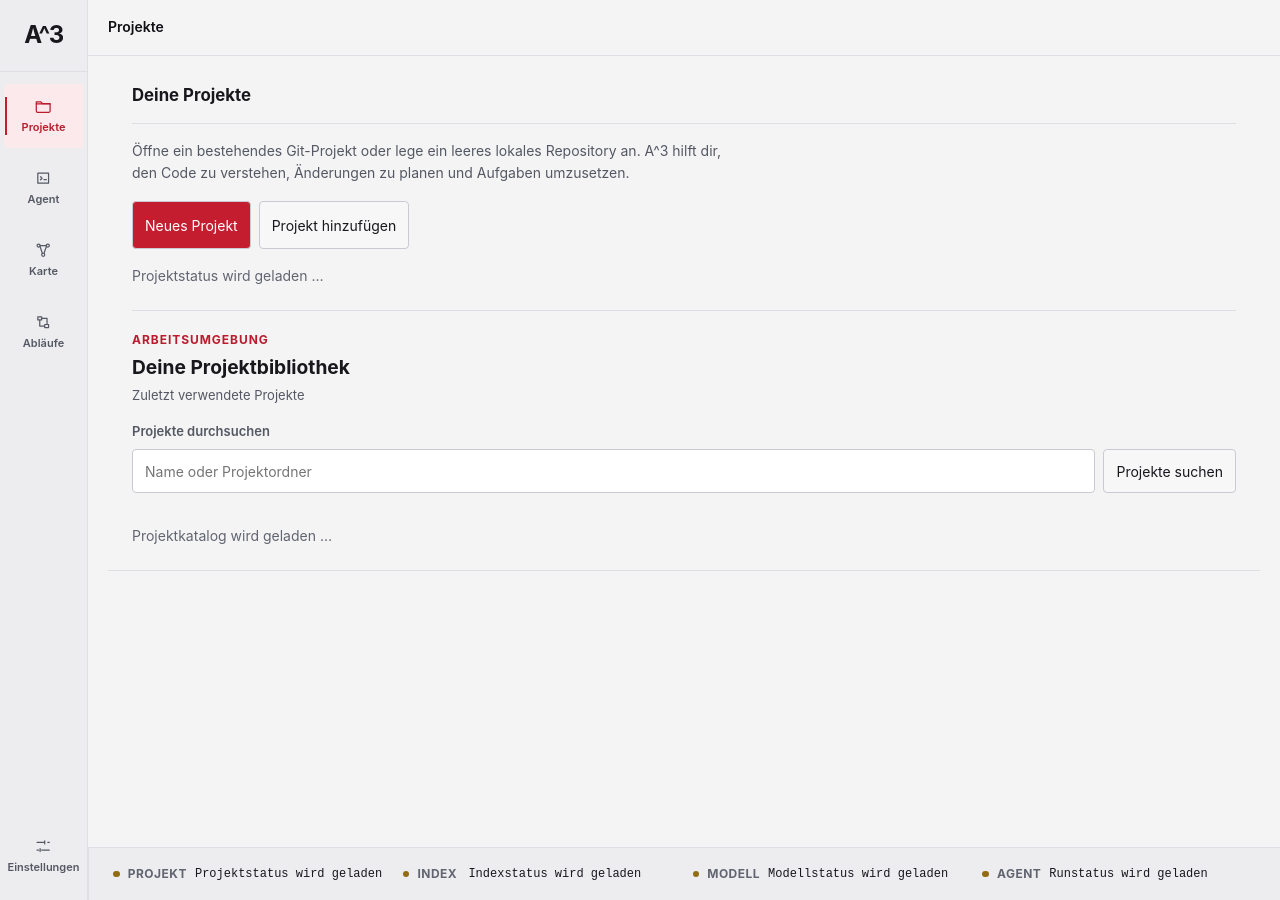
Test case: A^3 desktop shell › shows the exact product identity and keeps technical app information in Settings
The image size is (1280, 900).
expect the heading "A^3" is shown: met, box [24,21,63,50]
Click the link "Einstellungen".
click(43, 855)  # box [8,836,79,874]
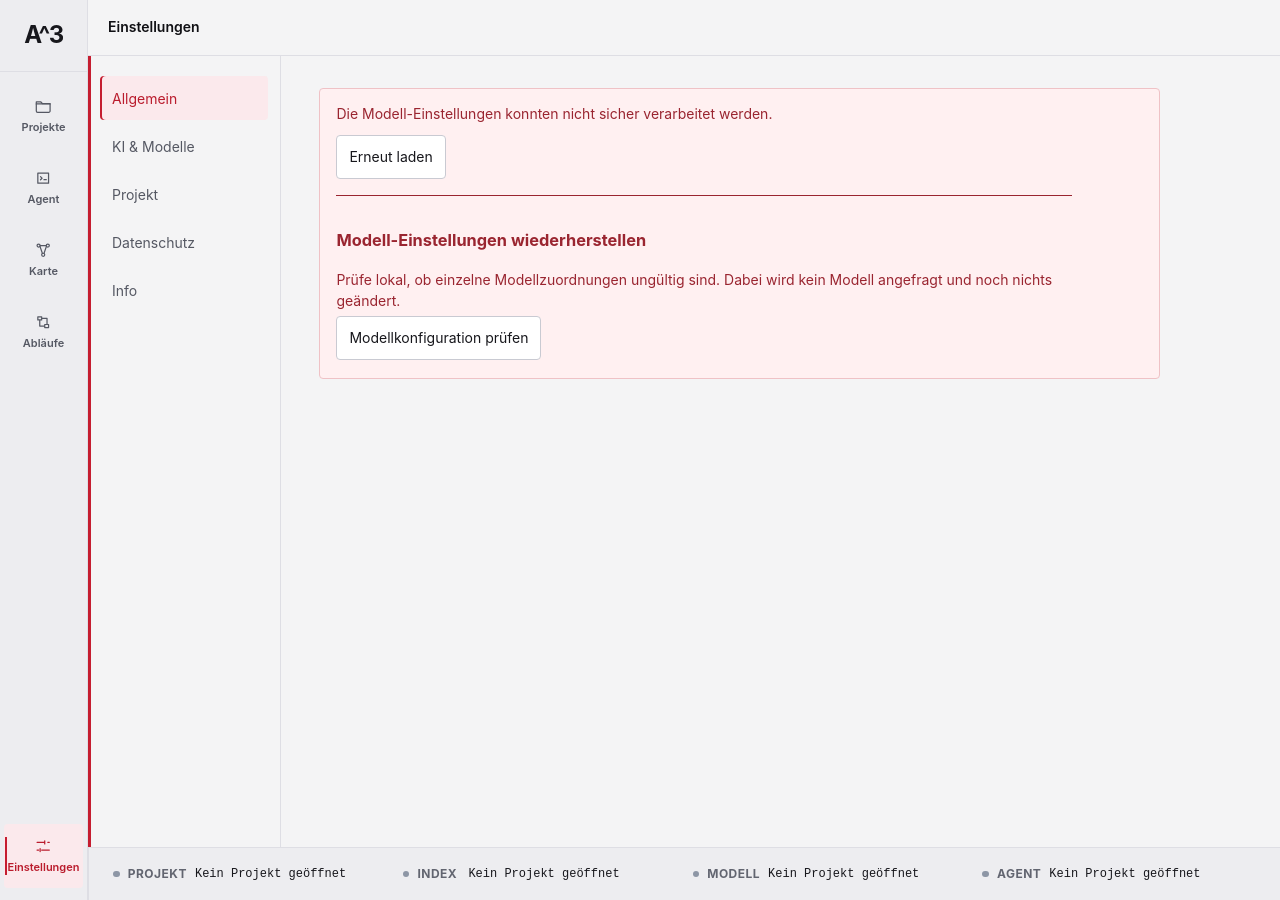
Click the button "Info".
click(184, 290)  # box [100,268,268,312]
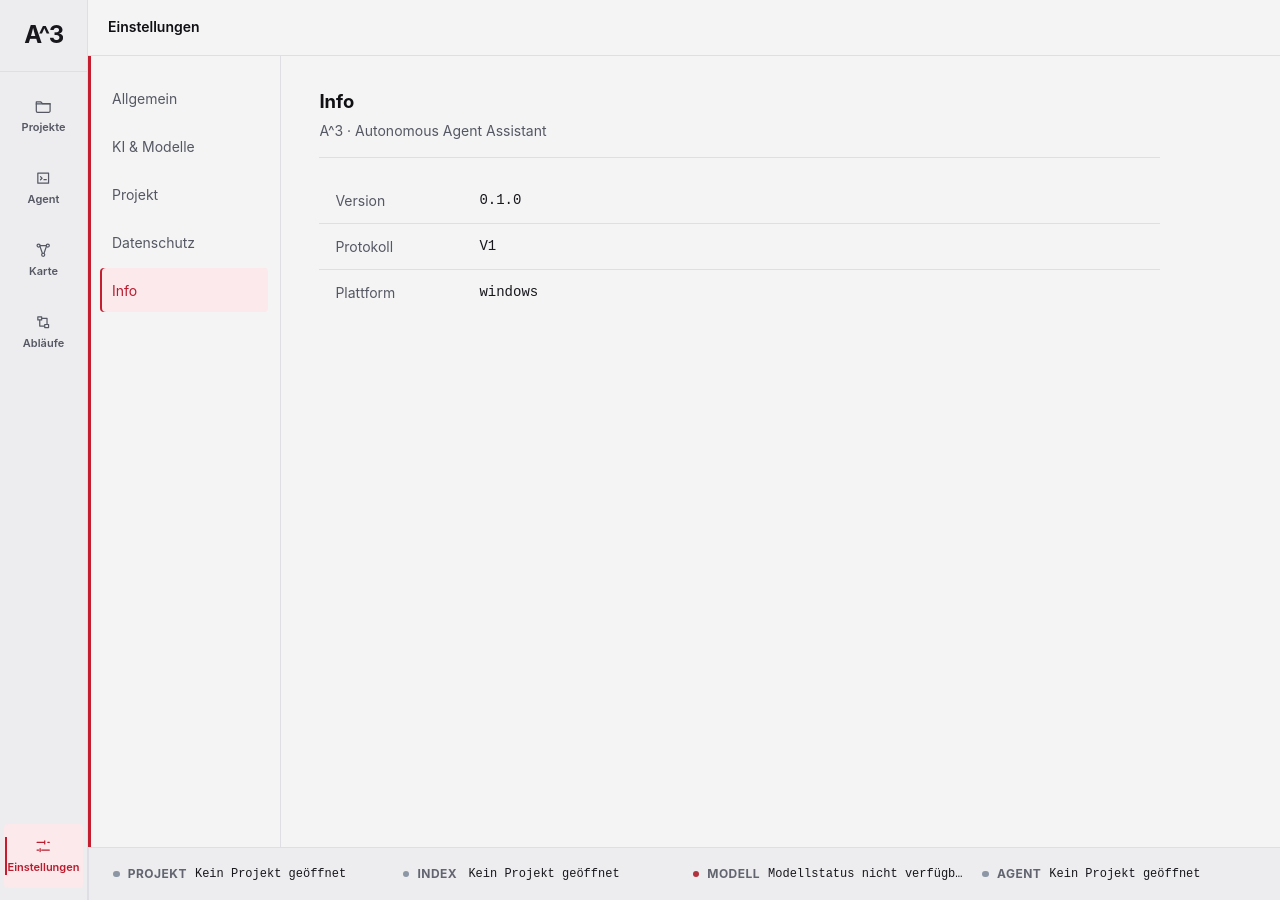
expect the element with id "settings" shows "0.1.0": met, box [479,192,521,208]
expect the element with id "settings" shows "V1": met, box [479,238,496,254]
expect the element with id "settings" shows "windows": met, box [479,284,538,300]
